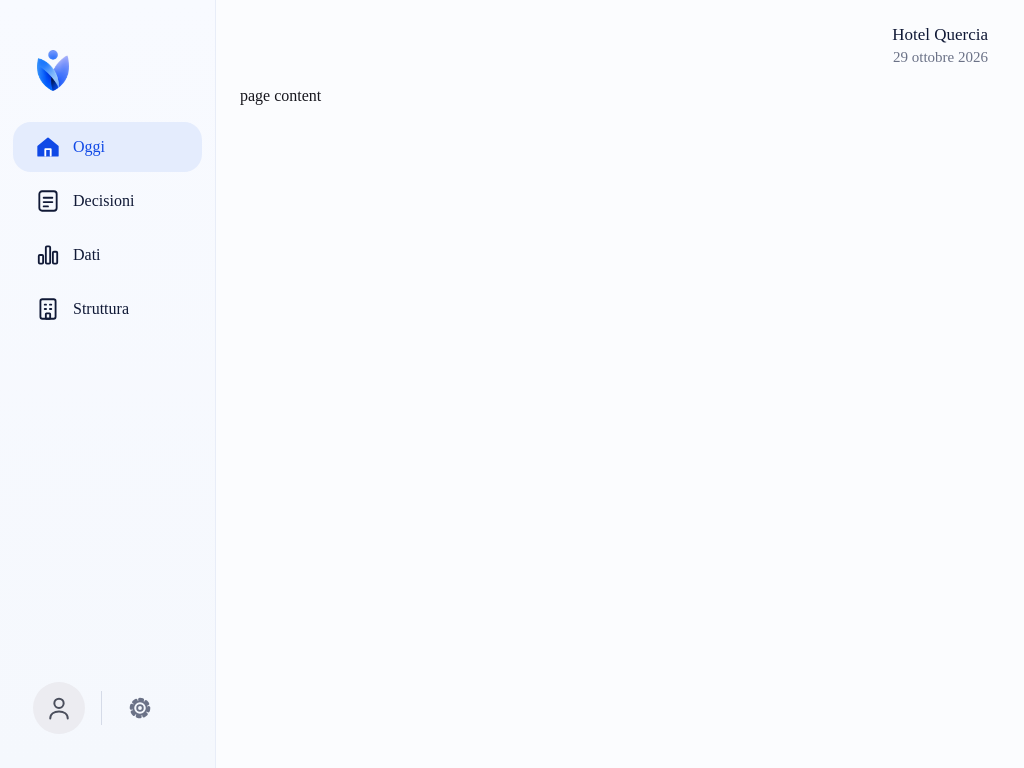
Test case: AppShell - profile menu › omits the display name when the account has none (still shows the e-mail)
Click the button named "Profilo e account" at (59, 708), box [33, 682, 85, 734]
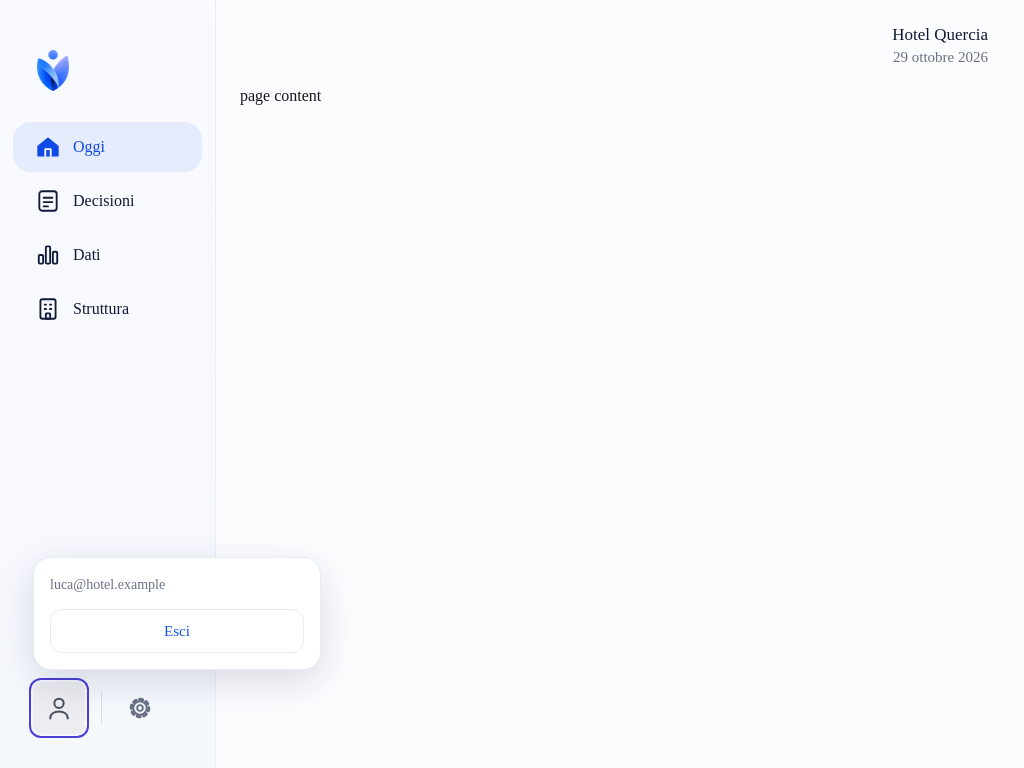
Expected: the text "luca@hotel.example" is shown, [50, 577, 165, 592]
